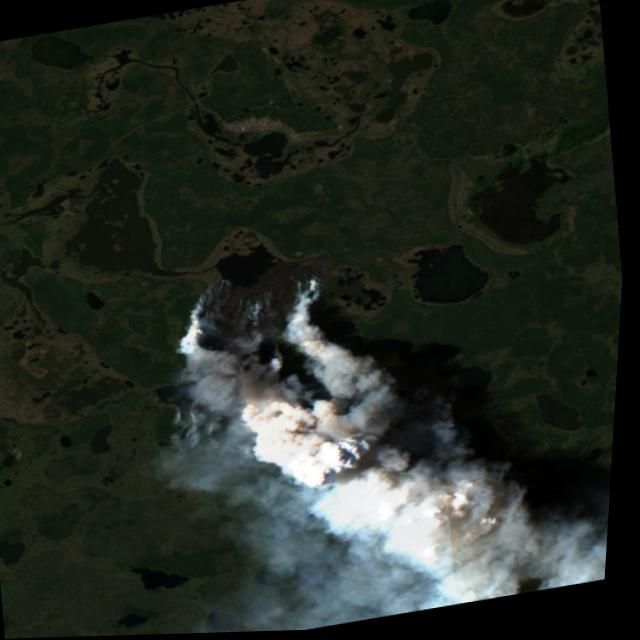fire: (158, 251, 366, 457)
